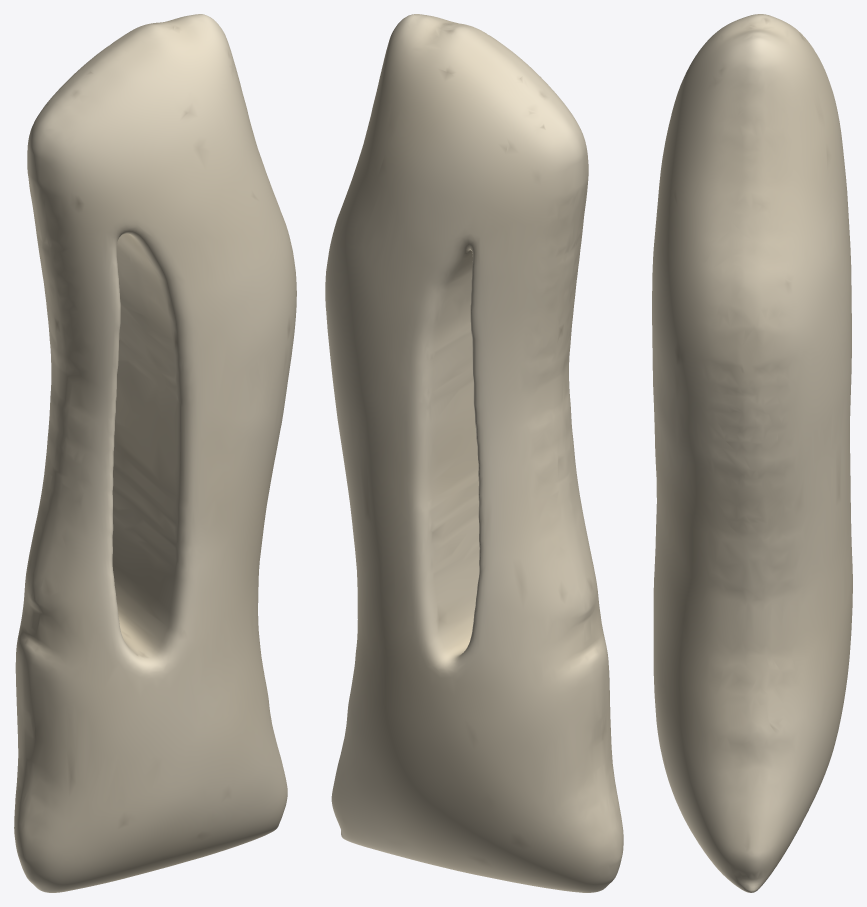
Rendered from queen-white-hd.glb.
3 renders of one model, left to right at view 1: azimuth 30°, elevation 25°; view 2: azimuth 150°, elevation 25°; view 3: azimuth 270°, elevation 25°, orthographic. The views are drawn at different scales.
Visible parts, largest first — view 1: Lumen dama bila; view 2: Lumen dama bila; view 3: Lumen dama bila.
Part boxes in pixels (box(x1,y1,x2,y2)): Lumen dama bila: box(14, 14, 296, 892); Lumen dama bila: box(325, 14, 623, 892); Lumen dama bila: box(652, 14, 852, 892).
Size of the model in its own units: 0.509 by 1.48 by 0.3281.
